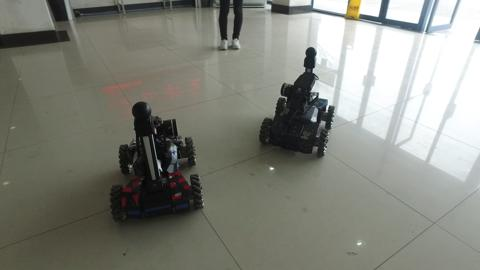chariot: (106, 99, 210, 227), (256, 46, 342, 165)
